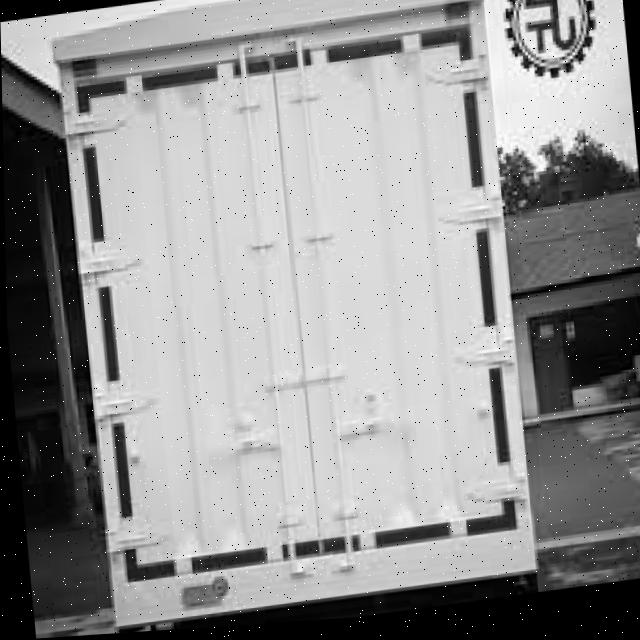truck: (41, 1, 551, 639)
